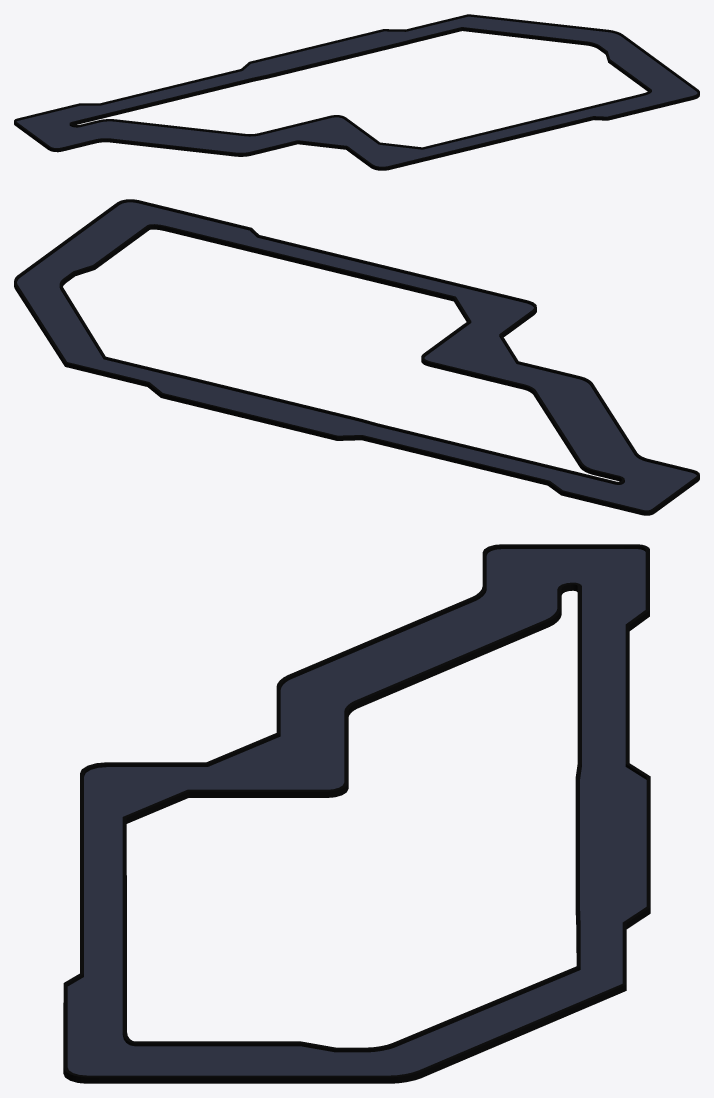
Rendered from draha.fbx.
3 views of the same model, one above another, from view 1: azimuth 30°, elevation 25°; view 2: azimuth 150°, elevation 25°; view 3: azimuth 270°, elevation 25° (orthographic). The views are drawn at different scales.
Visible parts, largest first — view 1: Plane.001; view 2: Plane.001; view 3: Plane.001.
Boxes of the visible parts, x1,y1,x2,y2 form: Plane.001: (14,14,699,170); Plane.001: (14,199,699,515); Plane.001: (63,544,650,1083).
Size of the model in its own units: 11892 by 66.71 by 5536.
